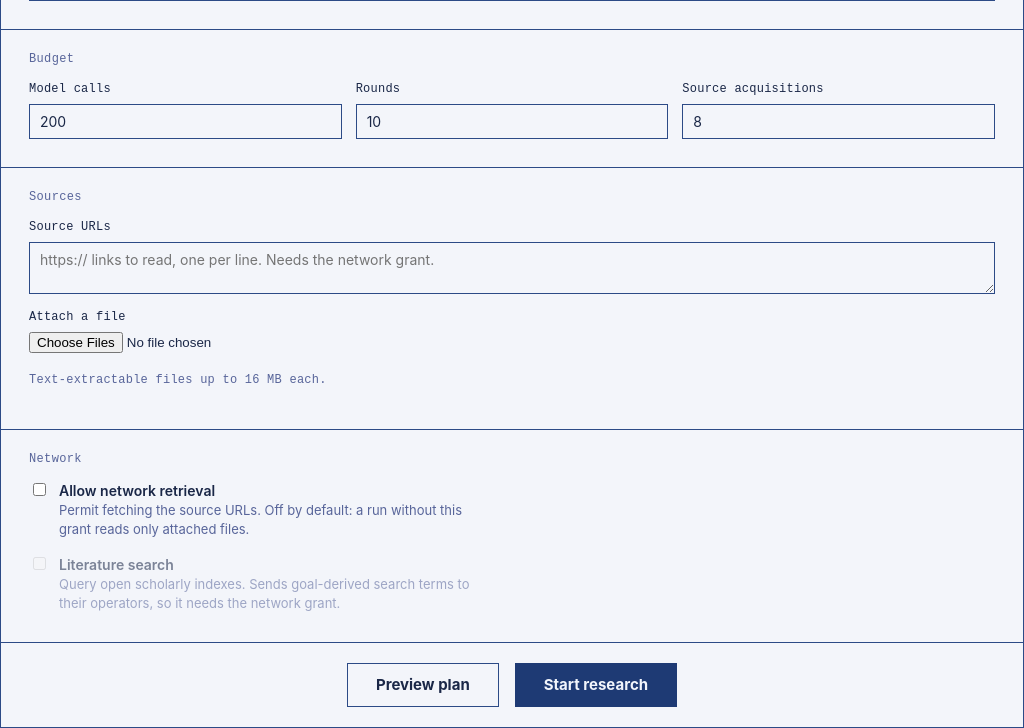
RunForm › validates before previewing too
(page scrolled)
Click the button "Preview plan": (423, 685) [347,663,499,707]
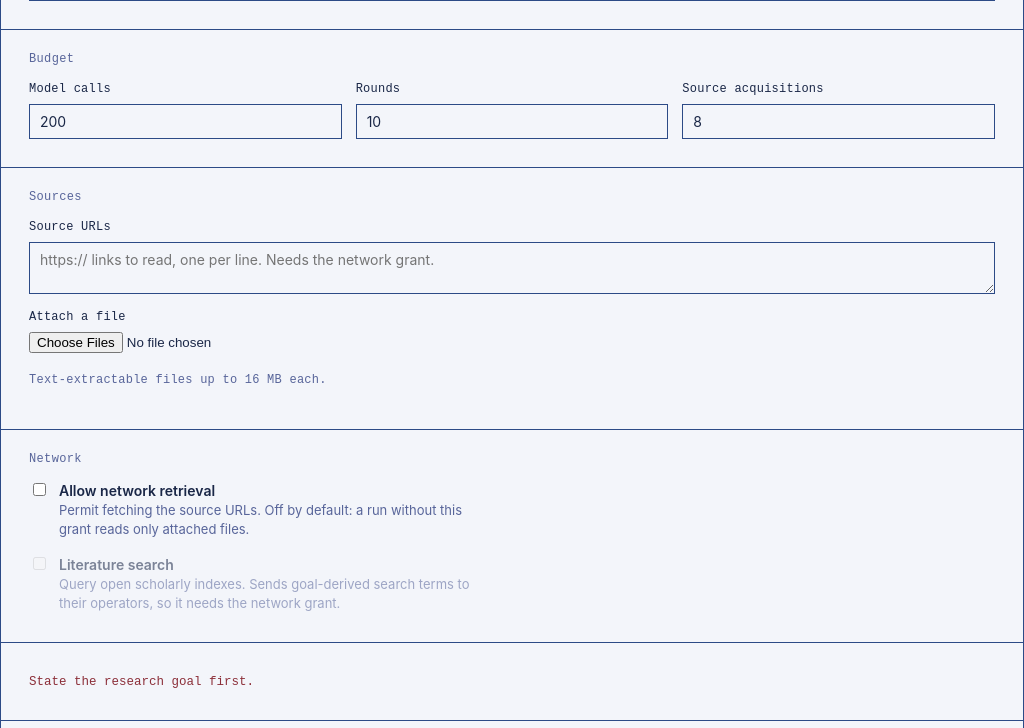
Expected: the message reads "State the research goal first.", [29,675,254,689]
